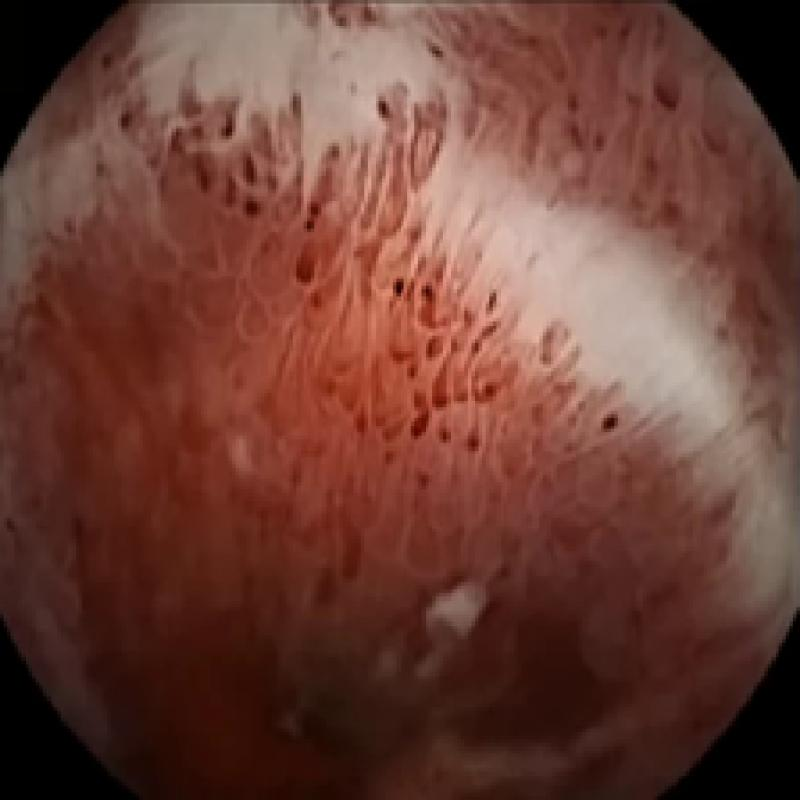bleeding: (49, 11, 778, 781)
